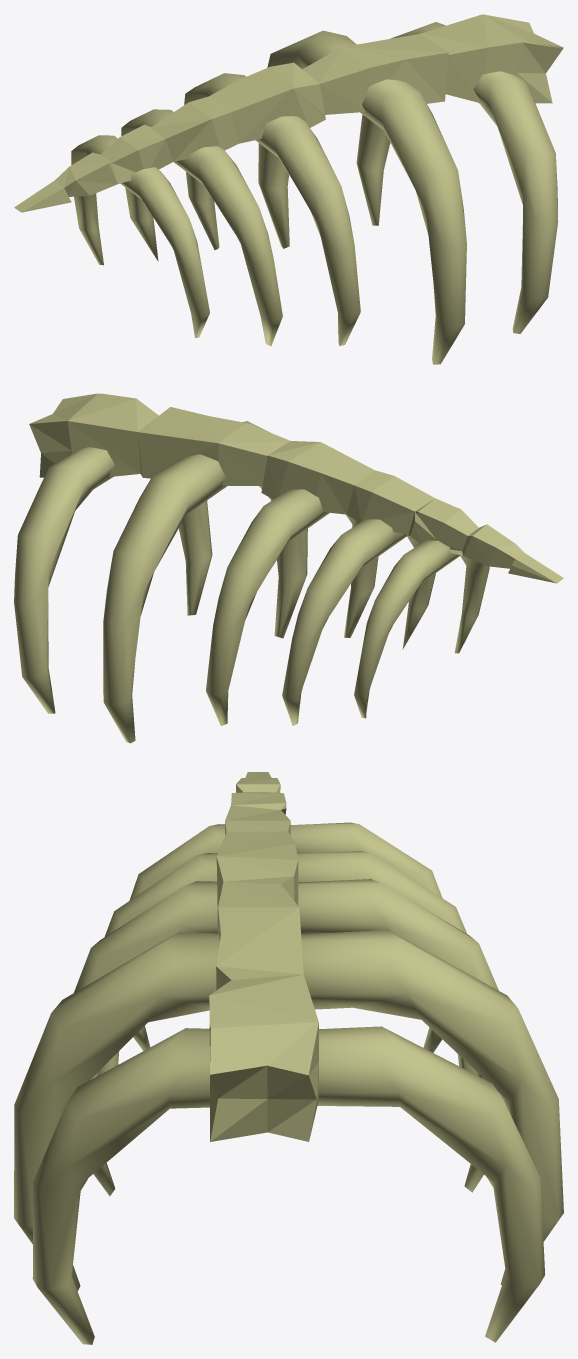
File: bone.fbx
The picture shows the model from 3 angles, top to bottom: view 1: azimuth 30°, elevation 25°; view 2: azimuth 150°, elevation 25°; view 3: azimuth 270°, elevation 25°; orthographic projection. The views are drawn at different scales.
Parts seen in each view (by area): view 1: Plane.006; view 2: Plane.006; view 3: Plane.006.
Boxes of the visible parts, <box> form: Plane.006: <box>14,14,563,364</box>; Plane.006: <box>14,393,563,743</box>; Plane.006: <box>14,772,563,1344</box>.
Bounding box in the file's own units: 201 × 95.39 × 127.
